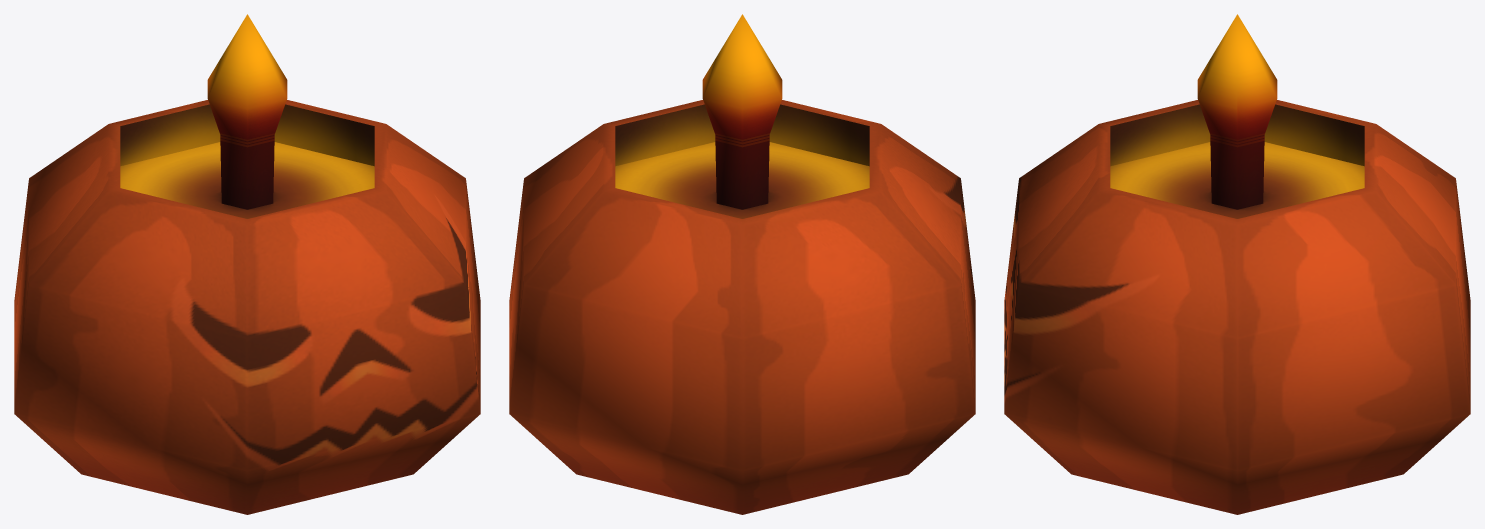
The model's file is Jac_ O_Candle.FBX.
3 renders of one model, left to right at view 1: azimuth 30°, elevation 25°; view 2: azimuth 150°, elevation 25°; view 3: azimuth 270°, elevation 25°, orthographic.
Visible parts, largest first — view 1: Jac_ O_Candle; view 2: Jac_ O_Candle; view 3: Jac_ O_Candle.
Part boxes in pixels (x1,y1,x2,y2): Jac_ O_Candle: (14, 14, 480, 514); Jac_ O_Candle: (509, 14, 975, 514); Jac_ O_Candle: (1004, 14, 1470, 514).
Bounding box in the file's own units: 44.84 × 39.47 × 38.84.
